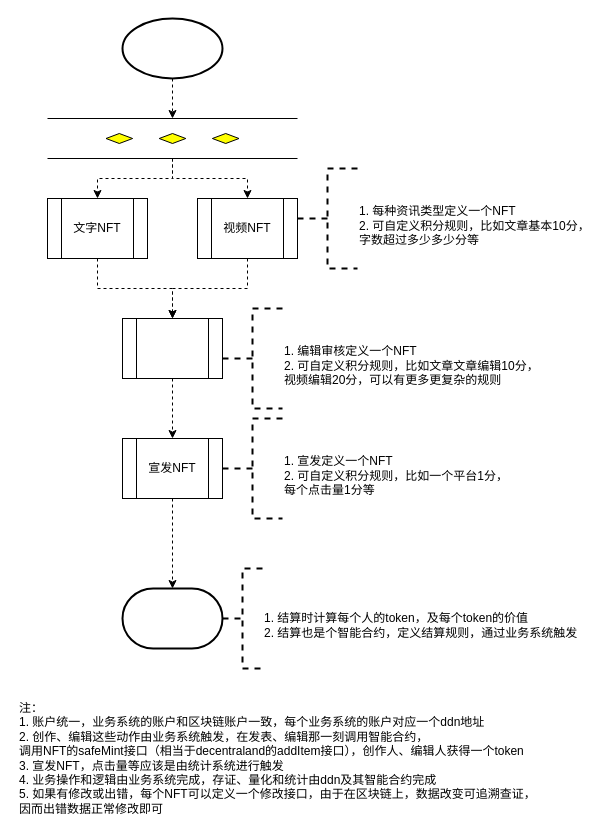
This 607x835 diagram has some shape labels left out. The shapes that lost their labels are listed below. From the top down, each one's box as (x1, y1, x2, y2) in pixels, then its label:
(121, 17, 223, 79): 开始
(122, 318, 222, 378): 编辑NFT
(121, 587, 223, 649): 结算
